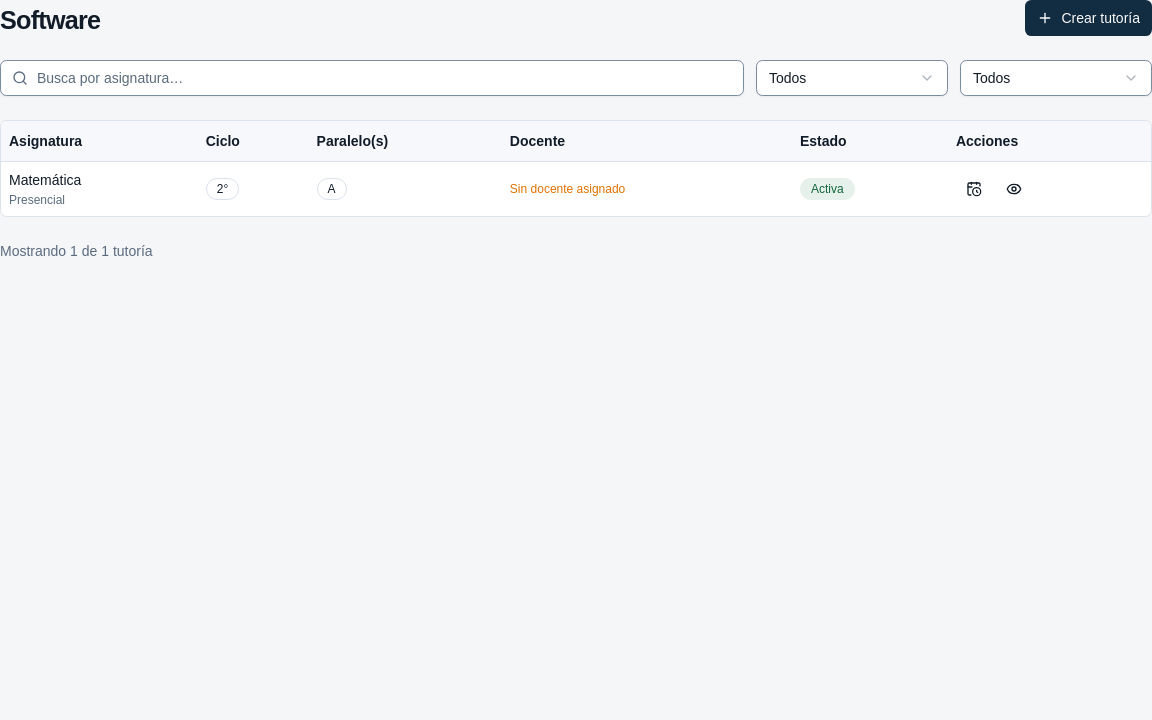
Test case: Coordinación de tutorías › al hacer clic en la fila abre el modal de edición: una tutoría creada no se desactiva ni tiene botón de edición
Expected: the text "Matemática" is shown, [9,172,81,188]
Click the row titled "Editar tutoría de Matemática" at (576, 188), box [1,161,1151,216]
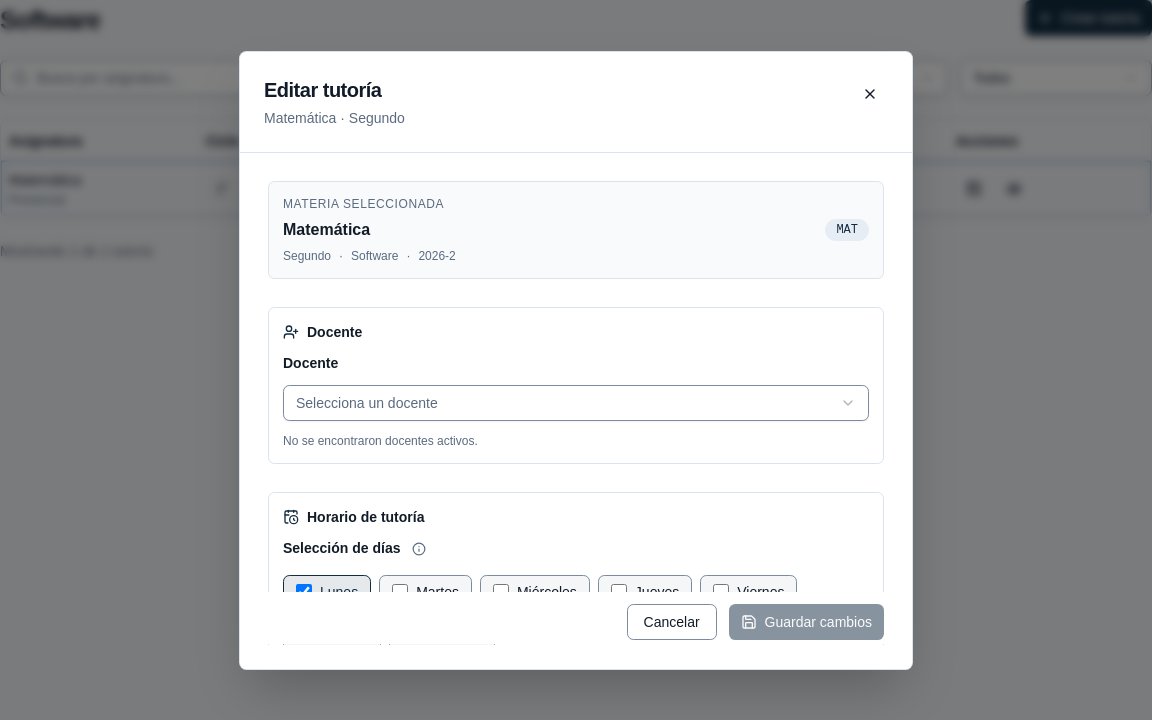
Result: the button "Guardar cambios" is disabled at [729,604,884,640]
